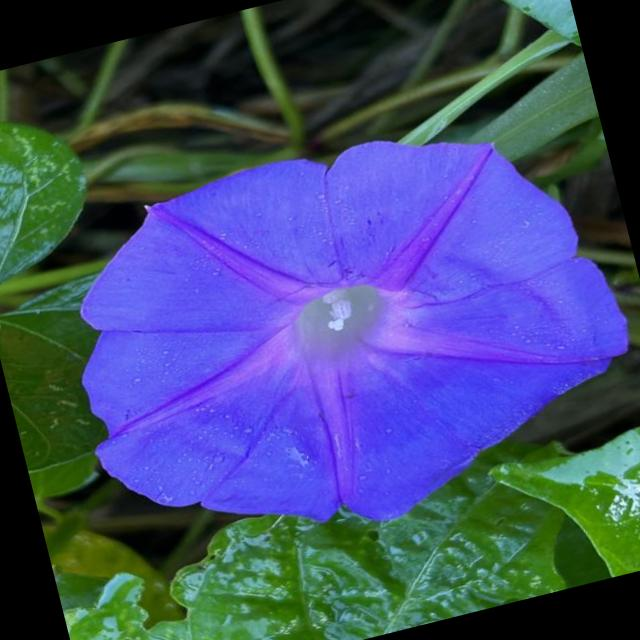ipomoea: (32, 84, 640, 588)
